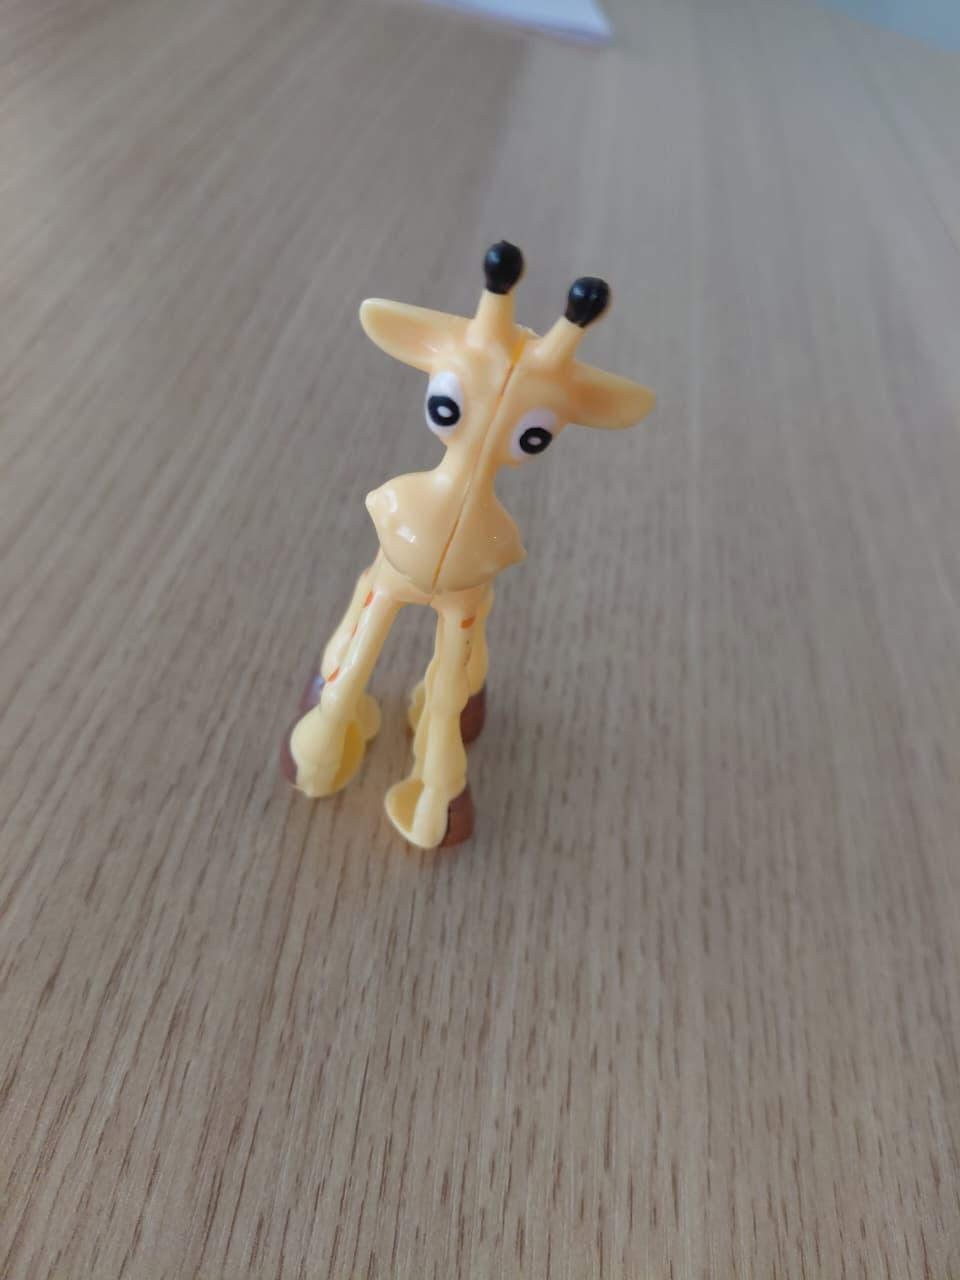giraffe: (235, 173, 674, 985)
